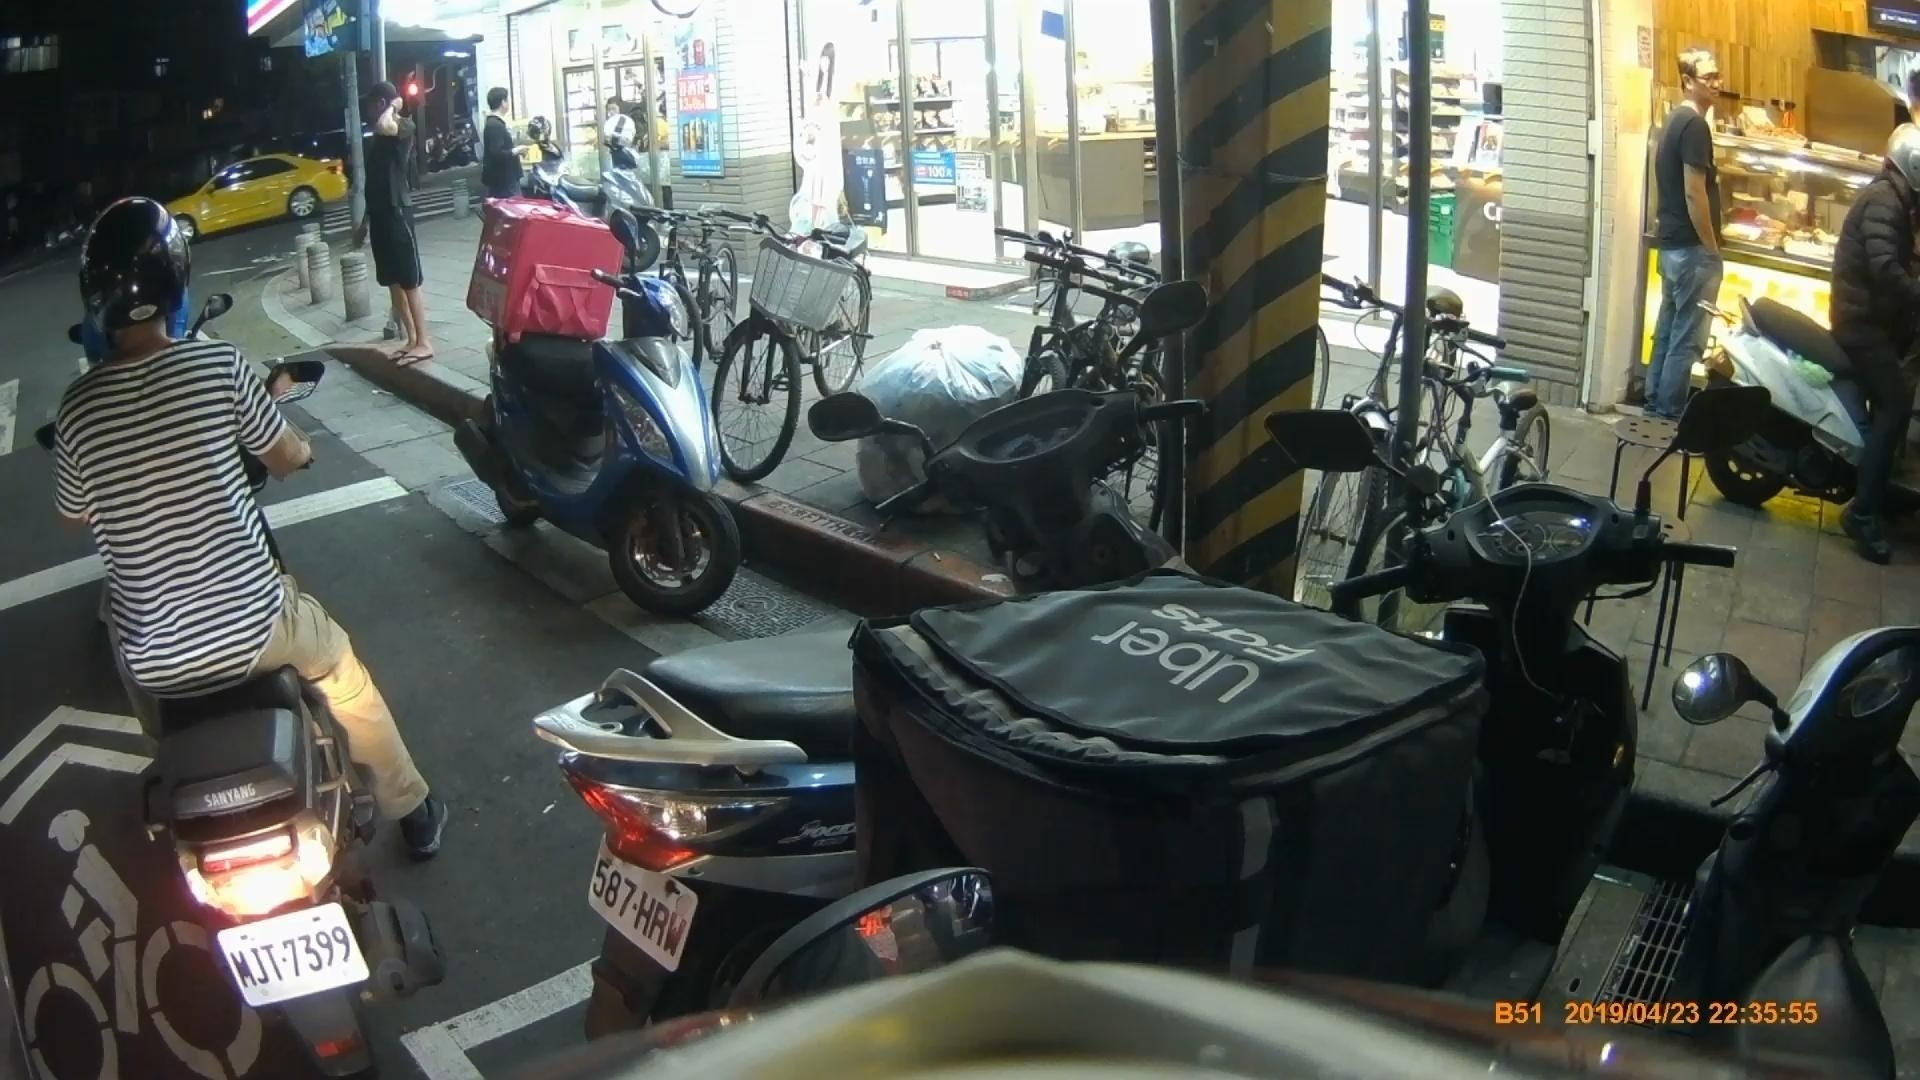License_plate: (586, 830, 702, 973), (212, 914, 374, 999)
